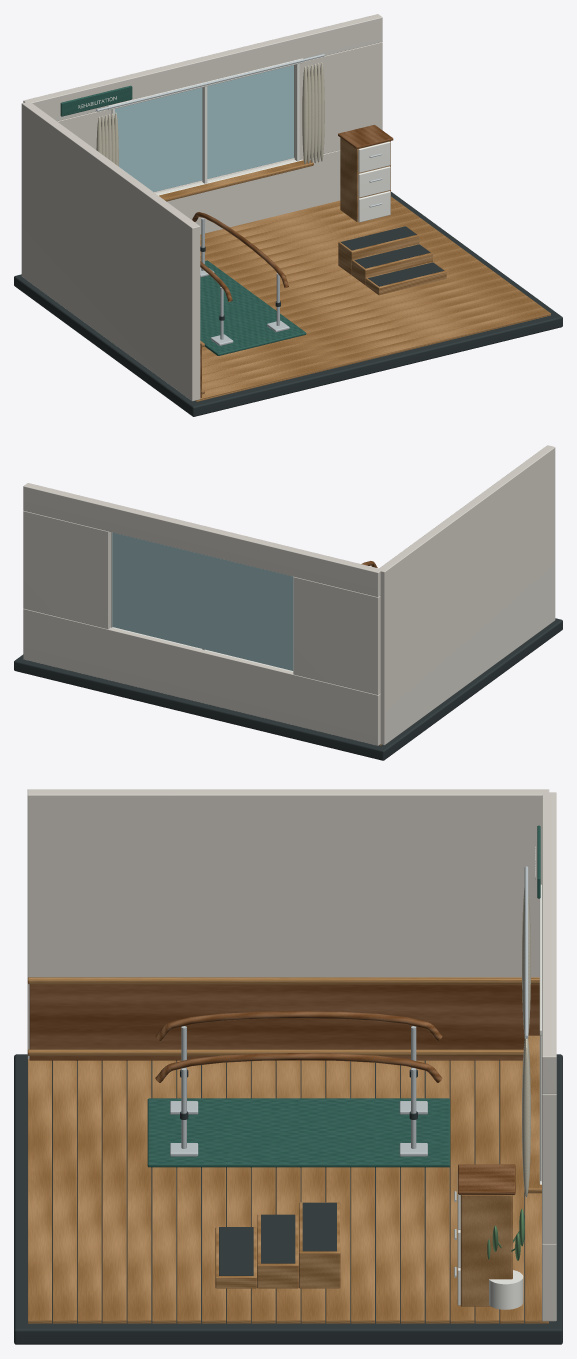
Rendered from care-rehab.glb.
3 renders of one model, top to bottom at view 1: azimuth 30°, elevation 25°; view 2: azimuth 150°, elevation 25°; view 3: azimuth 270°, elevation 25°, orthographic. The views are drawn at different scales.
Parts seen in each view (by area): view 1: Architecture_Mesh, ParallelBars_Mesh, TherapySteps_Mesh, StorageCabinet_Mesh; view 2: Architecture_Mesh; view 3: Architecture_Mesh, ParallelBars_Mesh, TherapySteps_Mesh, StorageCabinet_Mesh, Plant_Mesh.
Boxes of the visible parts, left/top/right/bottom form: Architecture_Mesh: left=14, top=14, right=562, bottom=416; ParallelBars_Mesh: left=192, top=212, right=306, bottom=355; TherapySteps_Mesh: left=338, top=225, right=446, bottom=295; StorageCabinet_Mesh: left=338, top=125, right=393, bottom=222; Architecture_Mesh: left=14, top=445, right=562, bottom=760; Architecture_Mesh: left=14, top=789, right=562, bottom=1344; ParallelBars_Mesh: left=147, top=1011, right=450, bottom=1167; TherapySteps_Mesh: left=215, top=1202, right=340, bottom=1288; StorageCabinet_Mesh: left=454, top=1164, right=515, bottom=1306; Plant_Mesh: left=487, top=1209, right=524, bottom=1309.
Bounding box in the file's own units: 6.26 × 3 × 5.26.
10 materials, 4 textured.
